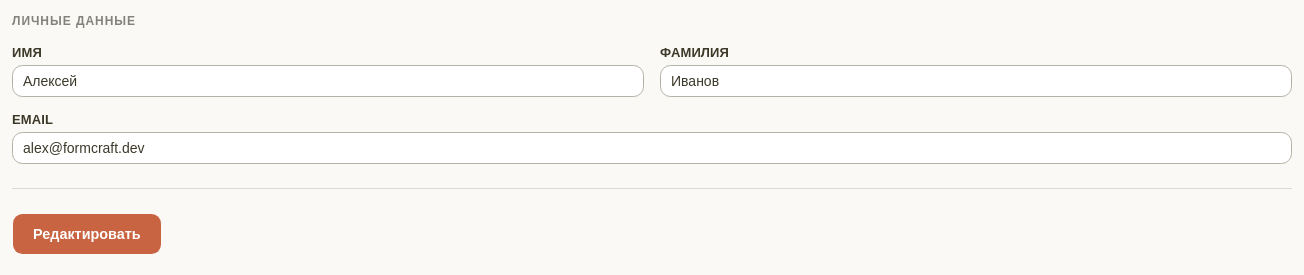
ProfileForm › «Отменить» возвращает в просмотр с исходными данными
The image size is (1304, 275).
Click the button "Редактировать".
click(87, 234)  # box x1=12 y1=213 x2=162 y2=255
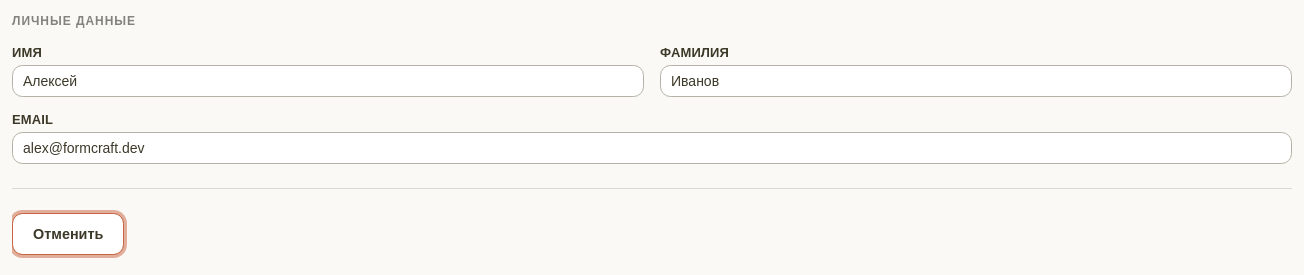
Replace the text in the field labelled "Имя" with "Пётр" at (328, 81), box x1=12 y1=65 x2=644 y2=97
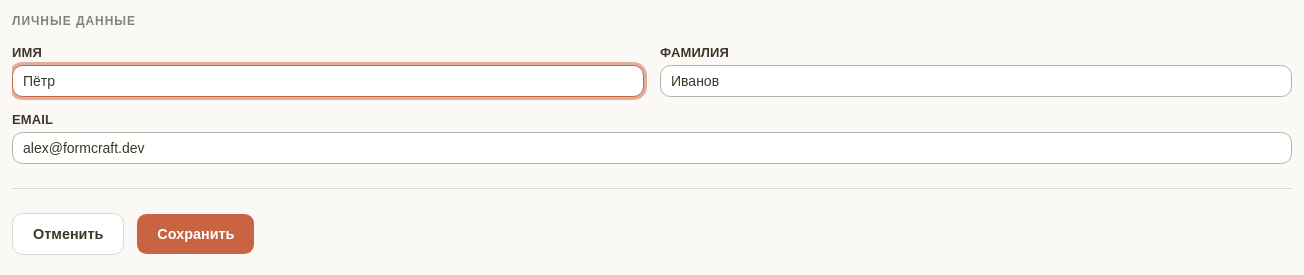
Click the button "Отменить".
click(68, 234)  # box x1=12 y1=213 x2=124 y2=255
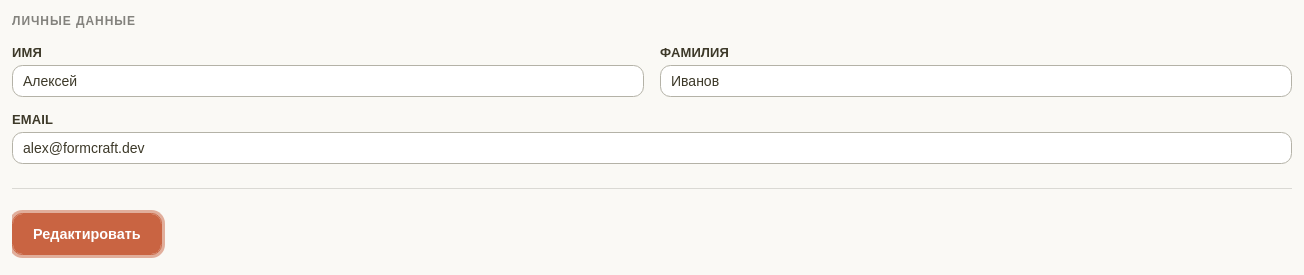
Result: the button "Редактировать" is shown at x1=12 y1=213 x2=162 y2=255
Result: the field labelled "Имя" holds "Алексей" at x1=12 y1=65 x2=644 y2=97
Result: the button "Сохранить" is gone
